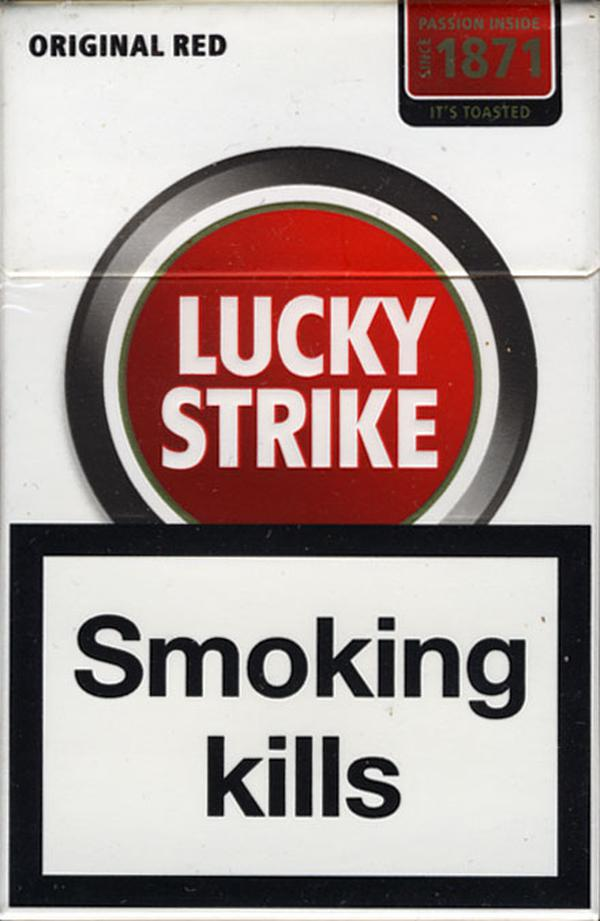lucky_strike_red: (6, 2, 598, 918)
